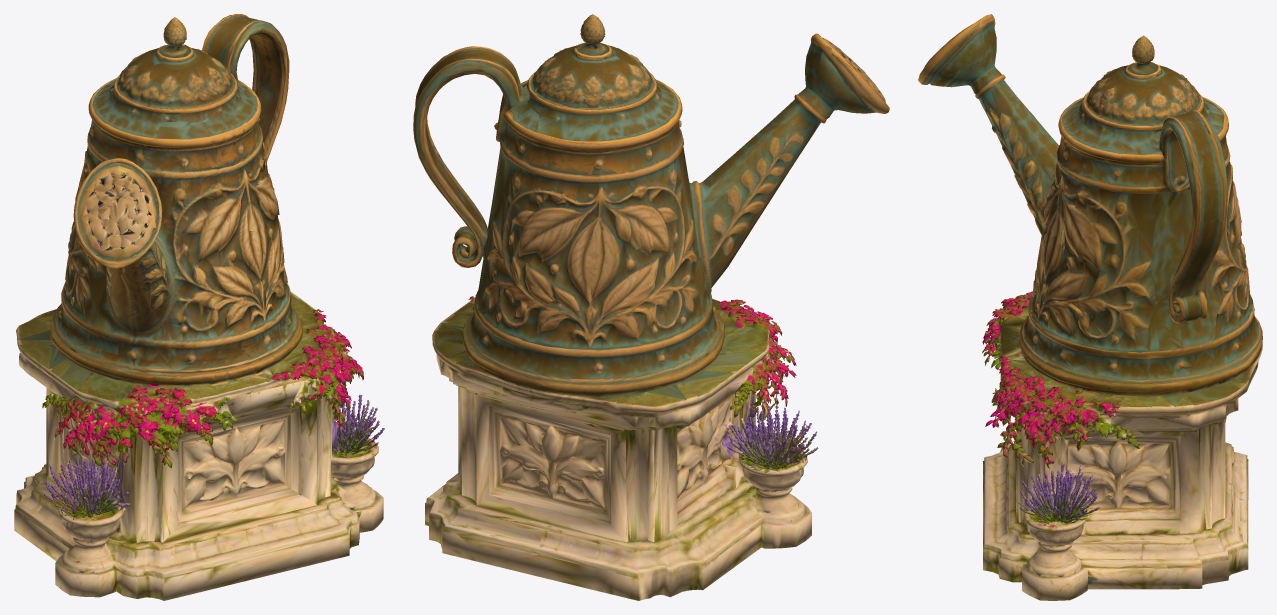
Rendered from esc-regadera.glb.
The picture shows the model from 3 angles, left to right: view 1: azimuth 30°, elevation 25°; view 2: azimuth 150°, elevation 25°; view 3: azimuth 270°, elevation 25°; orthographic projection. The views are drawn at different scales.
Parts seen in each view (by area): view 1: Mesh_0; view 2: Mesh_0; view 3: Mesh_0.
Boxes of the visible parts, x1,y1,x2,y2 form: Mesh_0: [14, 14, 384, 600]; Mesh_0: [413, 14, 889, 600]; Mesh_0: [918, 14, 1262, 600].
Bounding box in the file's own units: 1.39 × 1.9 × 1.21.
1 material, 1 textured.
